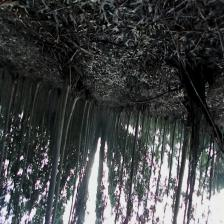trunk: (46, 79, 71, 209), (173, 130, 191, 216), (128, 112, 140, 200)
